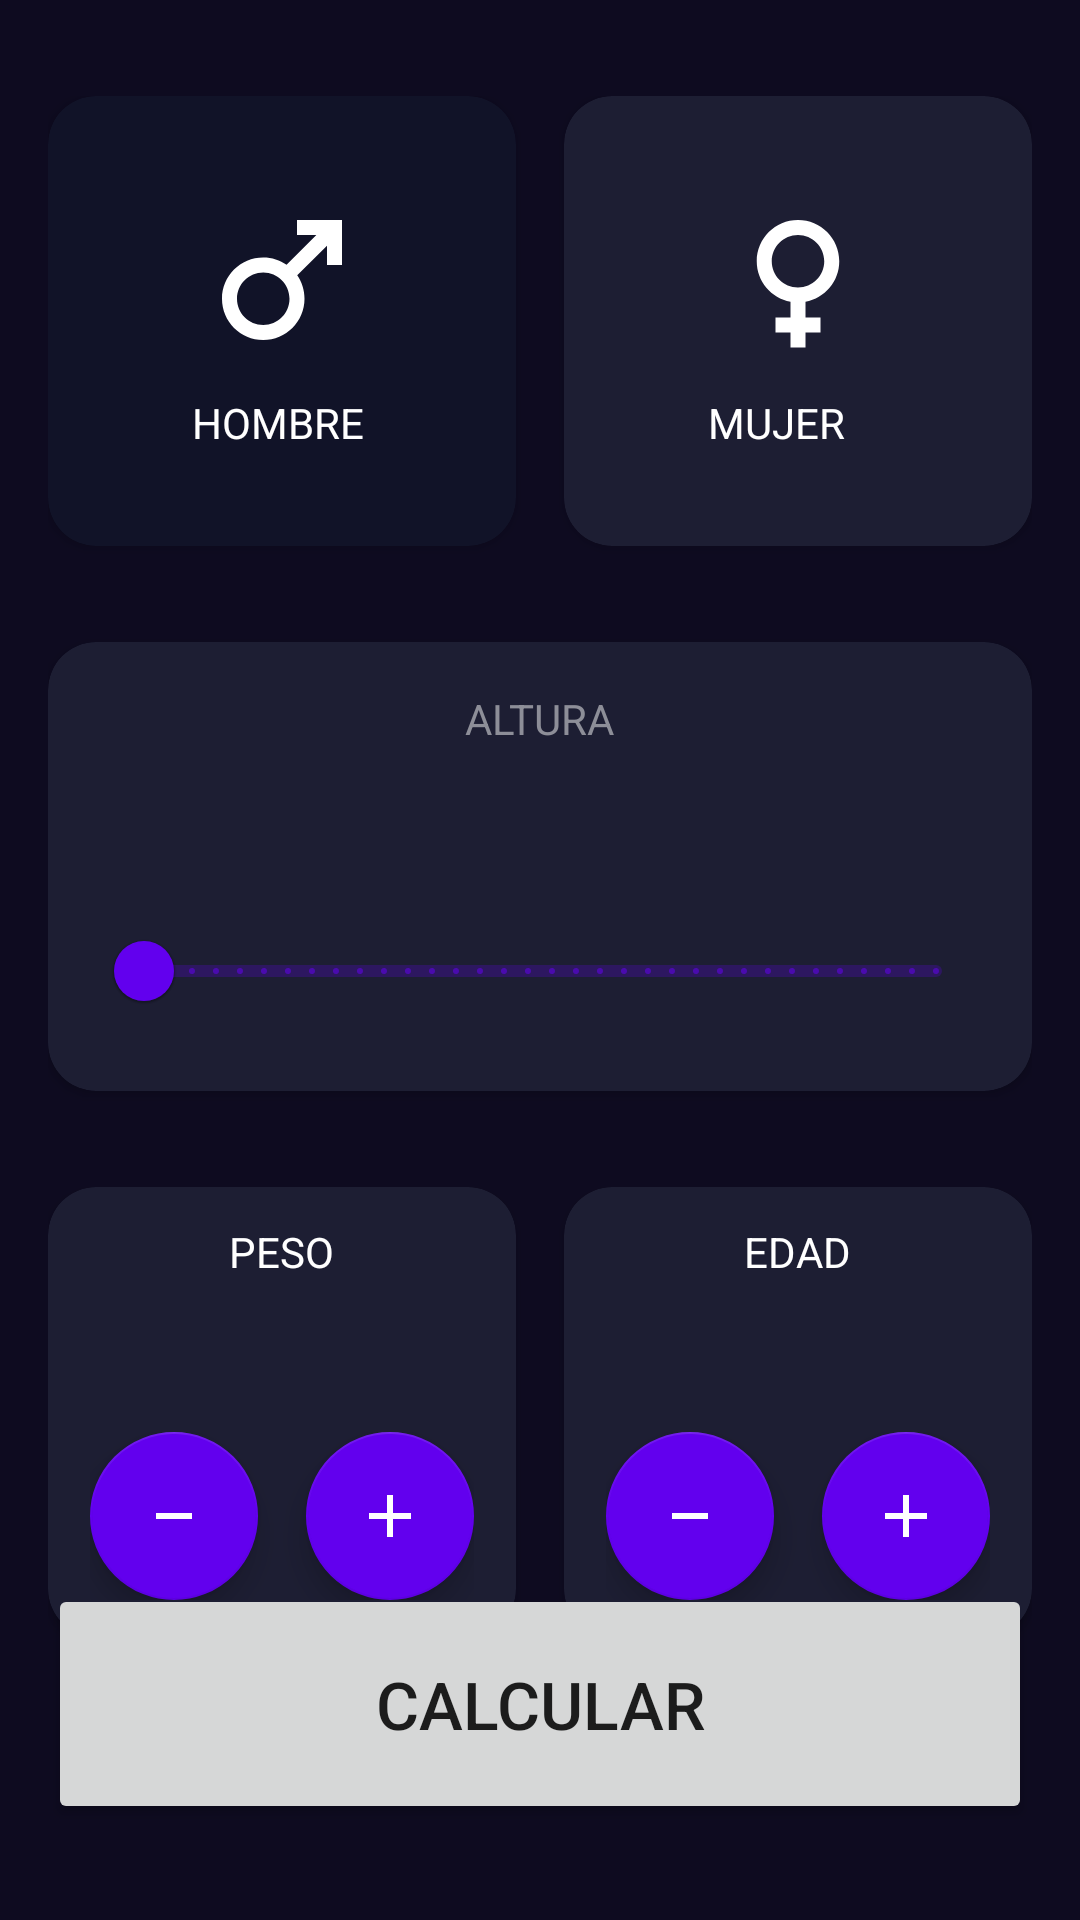

Screen size 1080w x 1920h. Icon name, then its box in pixels as (x1, y1, x2, y2):
add: (306, 1432, 474, 1600), (822, 1432, 990, 1600)
subtract: (90, 1432, 258, 1600), (606, 1432, 774, 1600)
